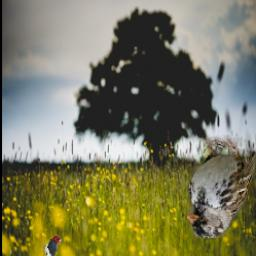Sparrow: (187, 135, 256, 238)
Woodpecker: (43, 236, 64, 256)
